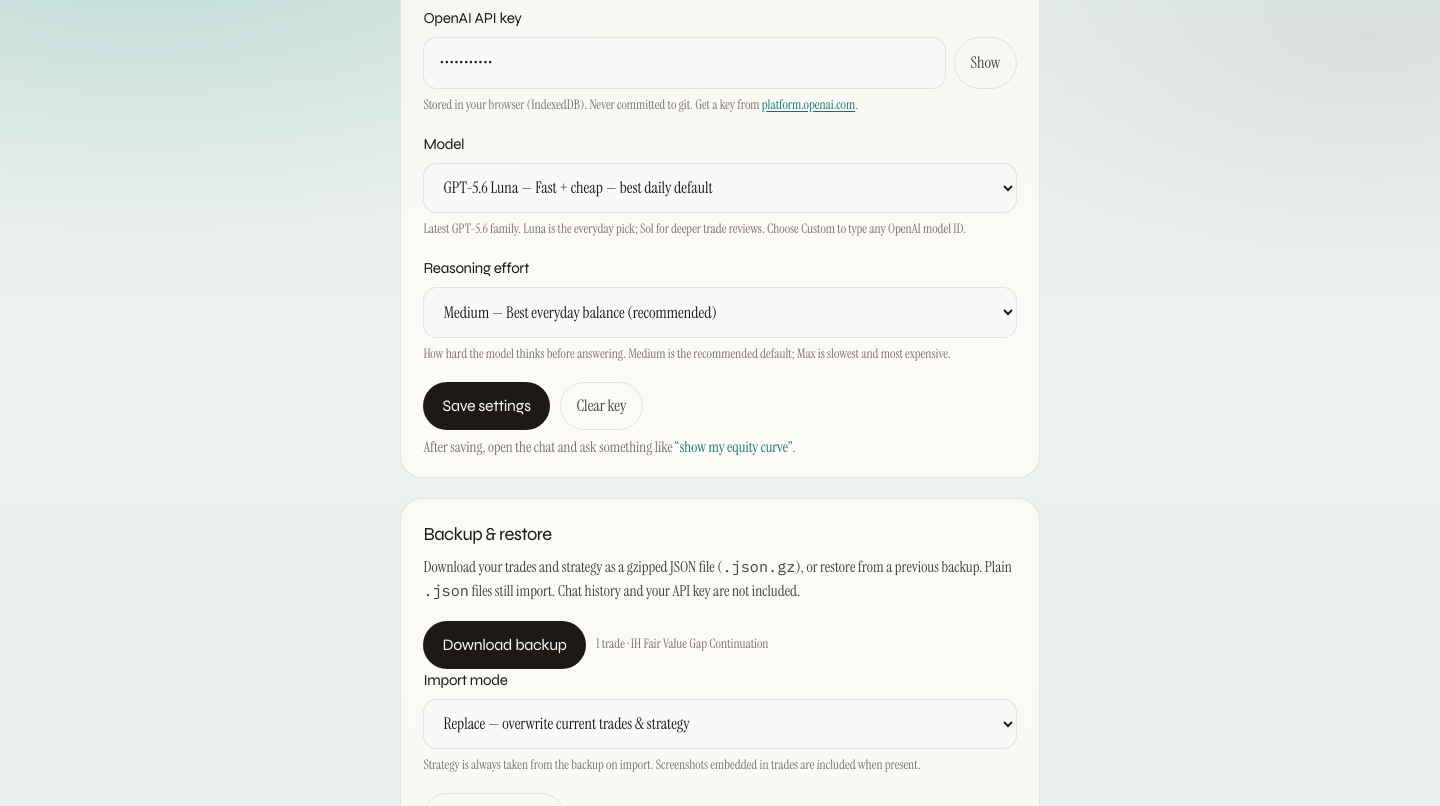
Test: SettingsPage › clears API key
(page scrolled)
Click the button "Clear key": [601, 406] box [560,382,643,430]
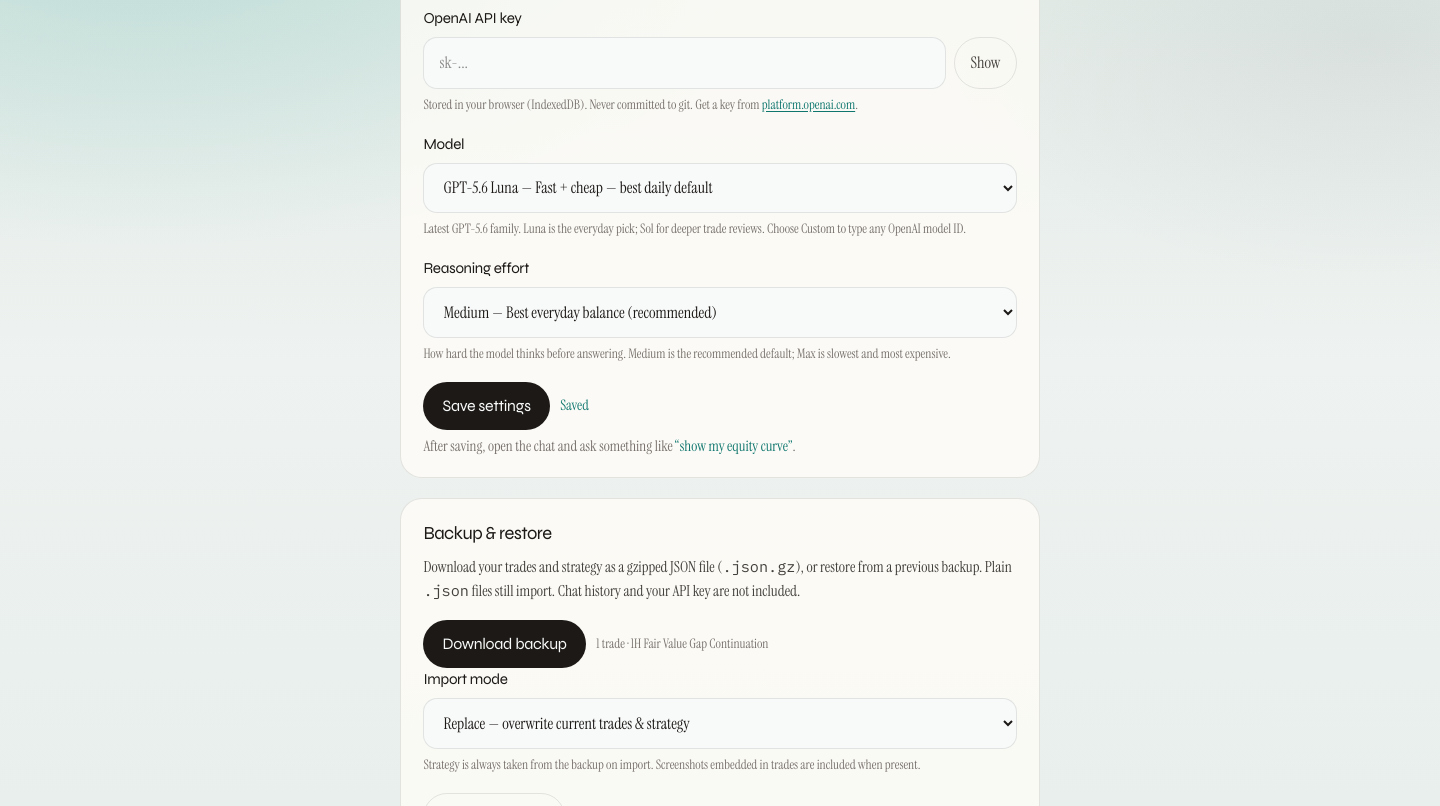
Expected: the password field with placeholder "sk-..." is empty, [423,37,946,89]
Expected: the text "Saved" is shown, [560,395,589,416]
